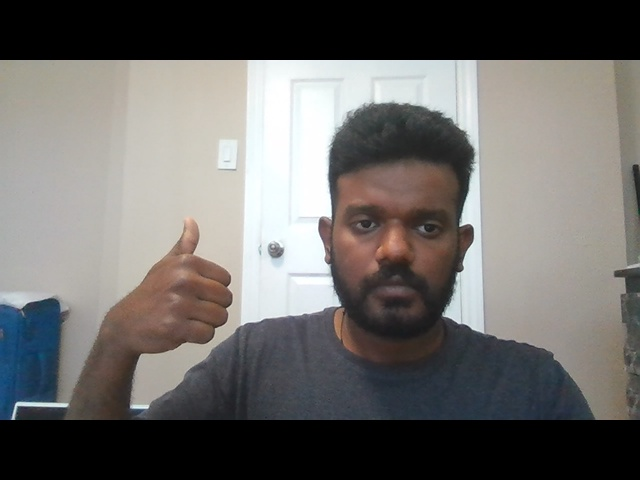yes: (105, 218, 237, 365)
